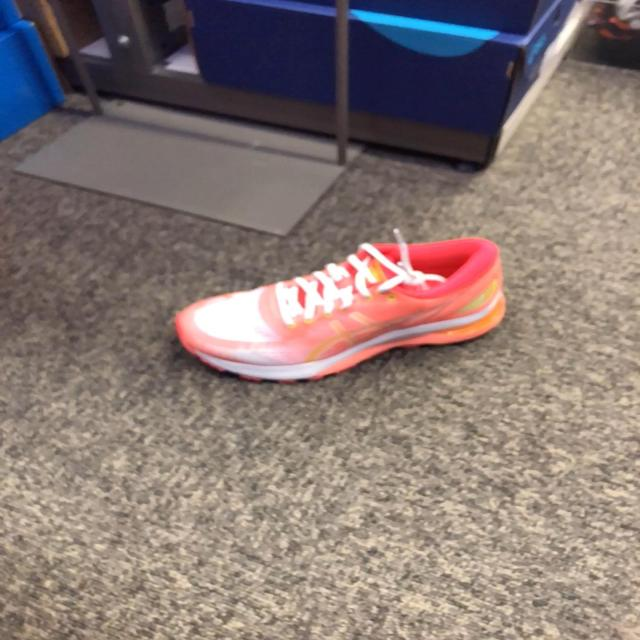shoe: (172, 237, 508, 385)
